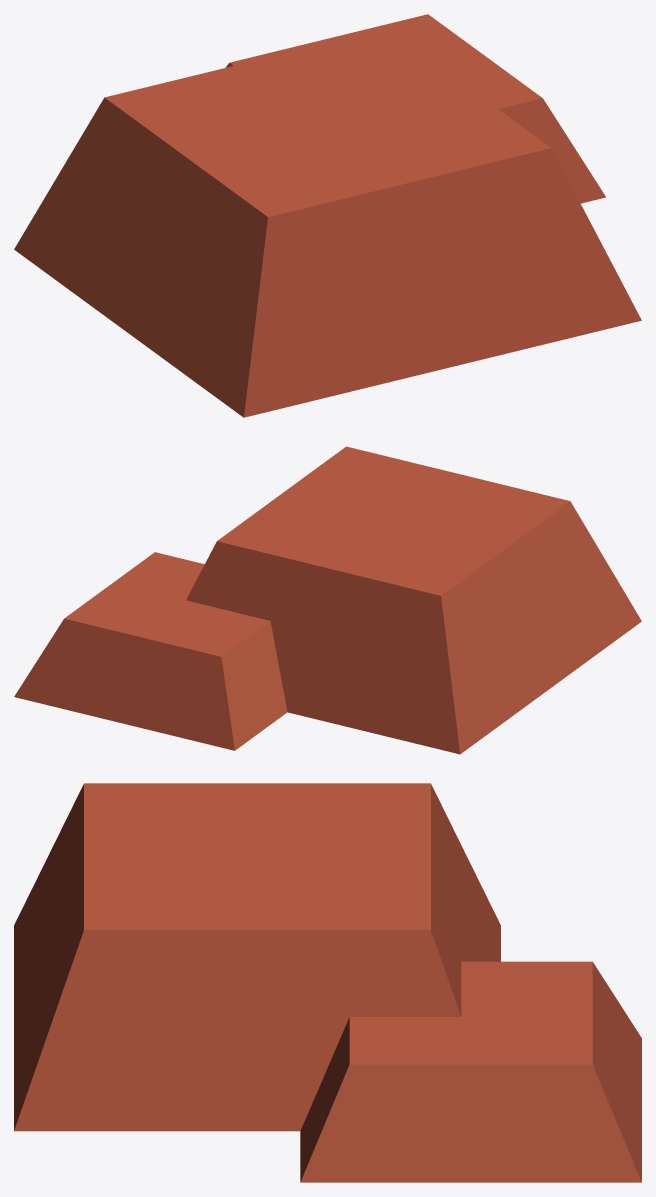
The model's file is SM_Env_Rocks_03.fbx.
3 renders of one model, top to bottom at view 1: azimuth 30°, elevation 25°; view 2: azimuth 150°, elevation 25°; view 3: azimuth 270°, elevation 25°, orthographic. The views are drawn at different scales.
Parts seen in each view (by area): view 1: SM_Env_Rocks_03; view 2: SM_Env_Rocks_03; view 3: SM_Env_Rocks_03.
Part boxes in pixels (left/top/right/bottom): SM_Env_Rocks_03: left=14, top=14, right=641, bottom=417; SM_Env_Rocks_03: left=14, top=446, right=641, bottom=754; SM_Env_Rocks_03: left=14, top=783, right=641, bottom=1182.
Size of the model in its own units: 1 by 0.3117 by 1.03.
